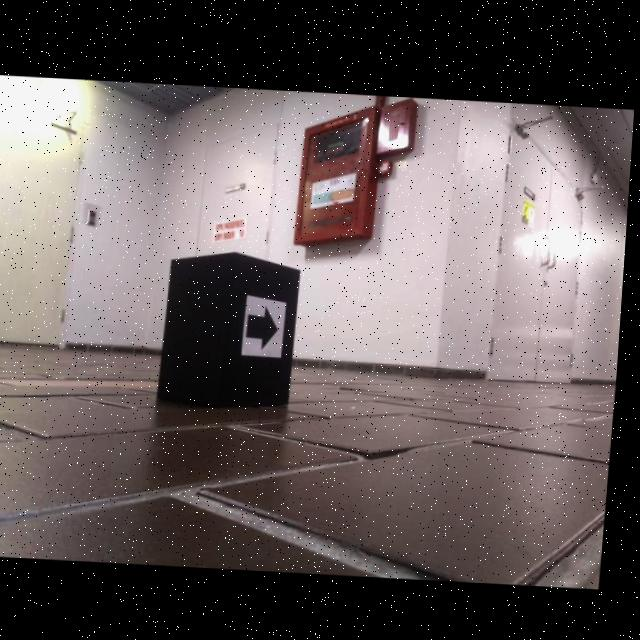RIGHT: (251, 304, 282, 348)
